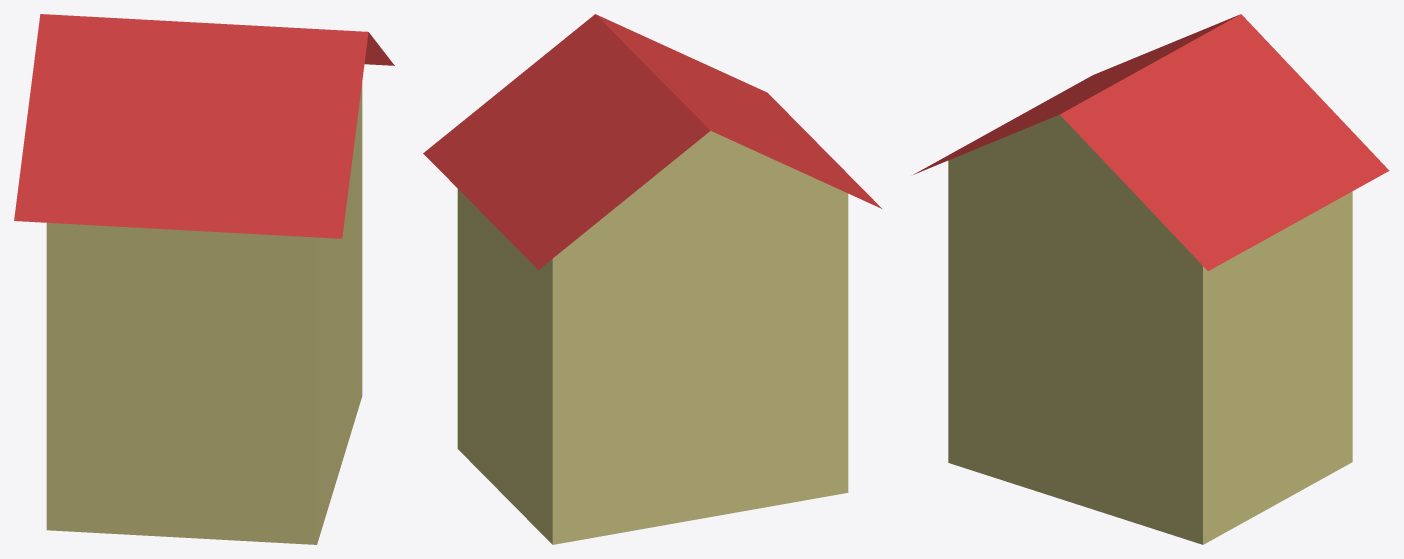
3 views of the same model, side by side, from view 1: azimuth 30°, elevation 25°; view 2: azimuth 150°, elevation 25°; view 3: azimuth 270°, elevation 25° (orthographic). The views are drawn at different scales.
Visible parts, largest first — view 1: group_5, group_3, group_4; view 2: group_5, group_3, group_4; view 3: group_5, group_3, group_4.
Boxes of the visible parts, x1,y1,x2,y2 form: group_5: (46, 83, 362, 544); group_3: (14, 14, 394, 238); group_4: (218, 33, 368, 238); group_5: (457, 131, 848, 544); group_3: (458, 14, 881, 267); group_4: (423, 14, 787, 269); group_5: (948, 114, 1352, 544); group_3: (917, 15, 1352, 239); group_4: (913, 14, 1389, 270).
Size of the model in its own units: 13.18 by 13.58 by 12.48.
